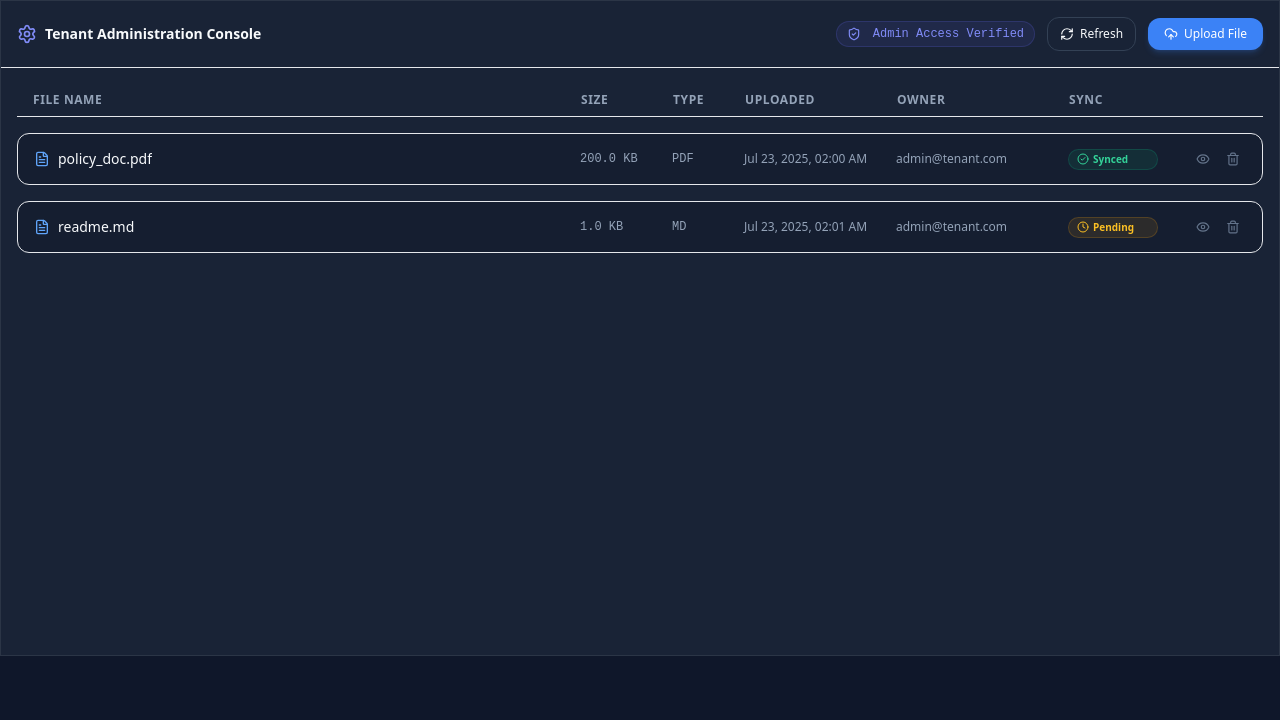
Test case: ManagementPage Component › downloads and renders markdown content in the preview dialog
Expected: the text "readme.md" is shown, [58,217,134,237]
Click the button with test id "preview-file-100002": click(1203, 227) [1190,214,1216,240]
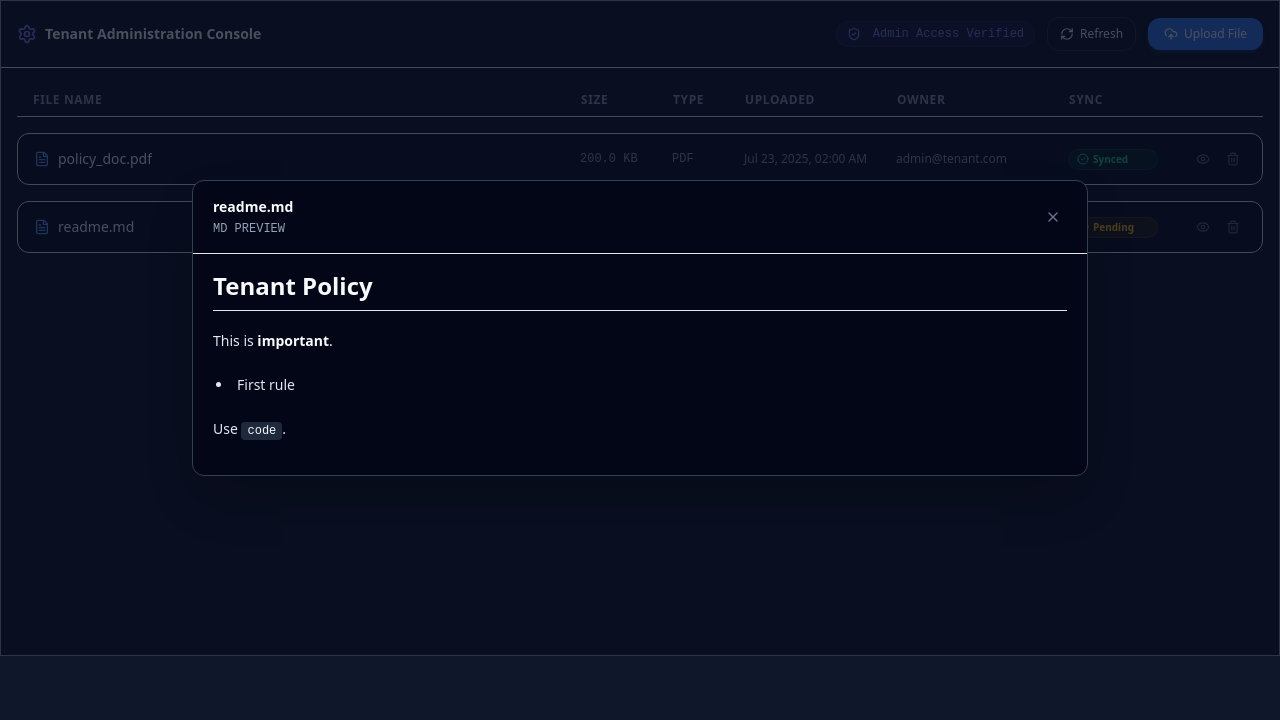
Expected: the dialog is shown
Expected: the text "important" is shown, [257,331,329,350]
